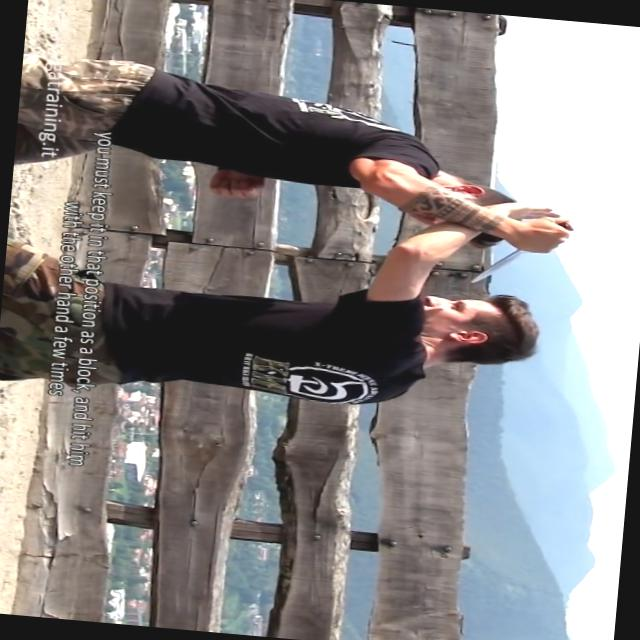knife: (461, 208, 580, 294)
